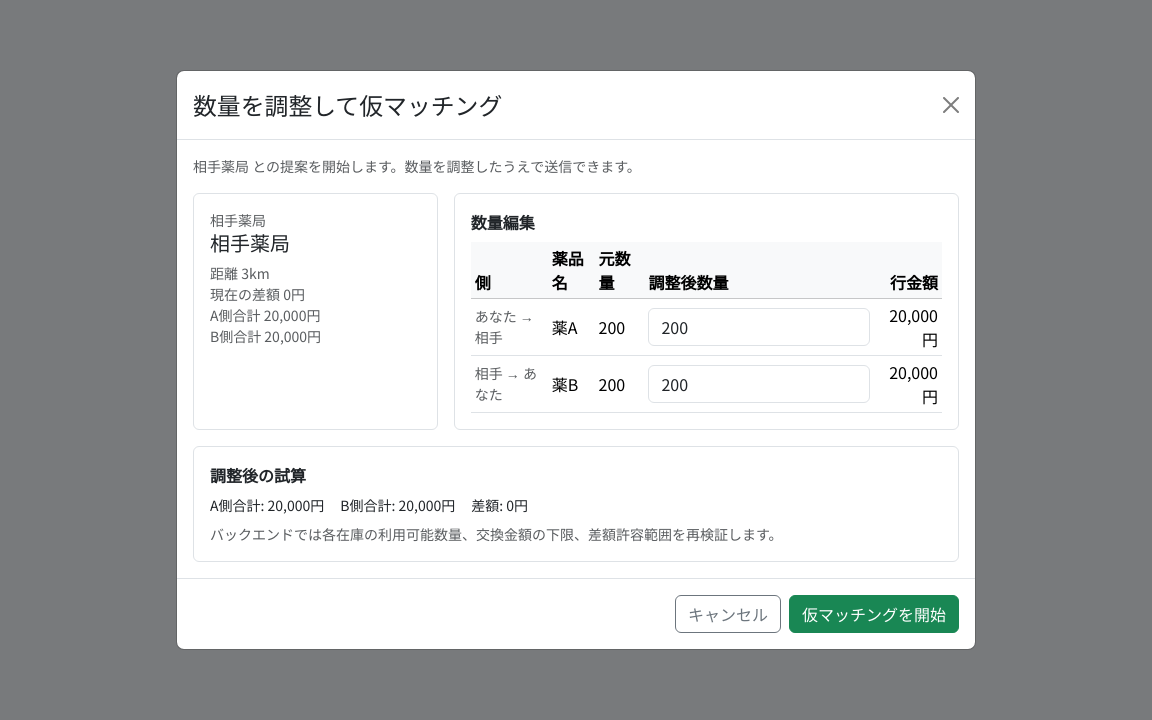
it: ProposalQuantityAdjustModal › disables confirmation when quantity exceeds the original stock amount
Clear the number field in the row of "あなた → 相手". click: (759, 327)
box: [648,308,870,346]
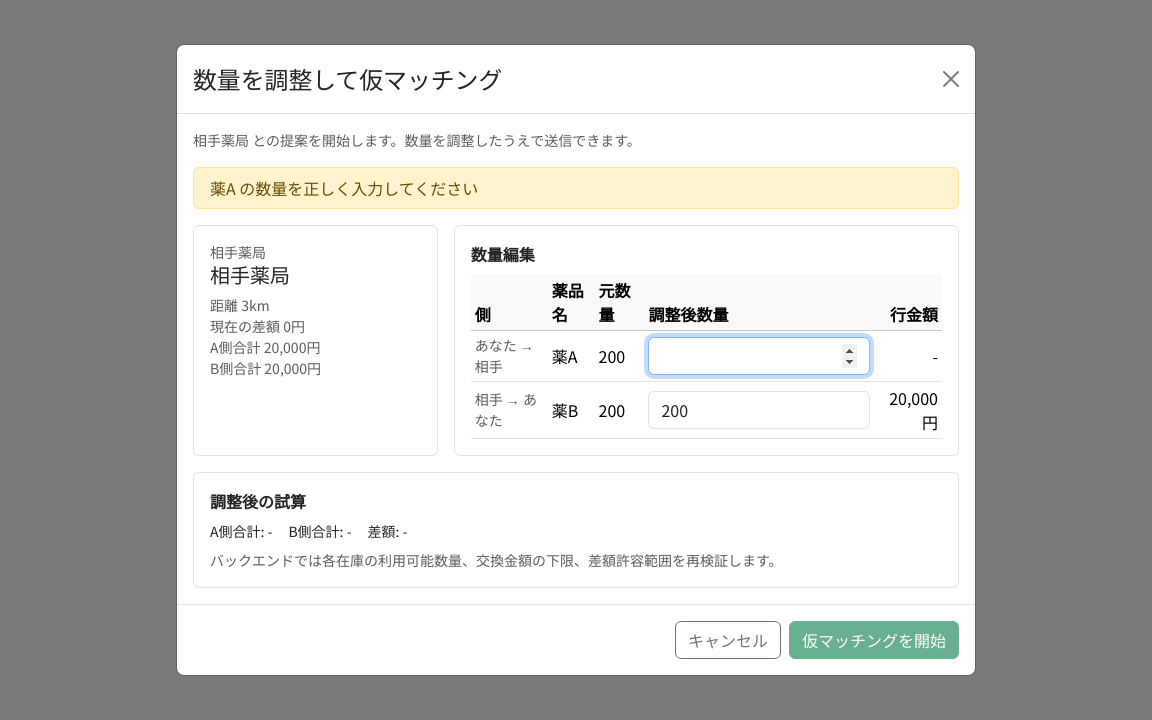
Type "250" into the number field in the row of "あなた → 相手". click: (759, 356)
box: [648,337,870,375]
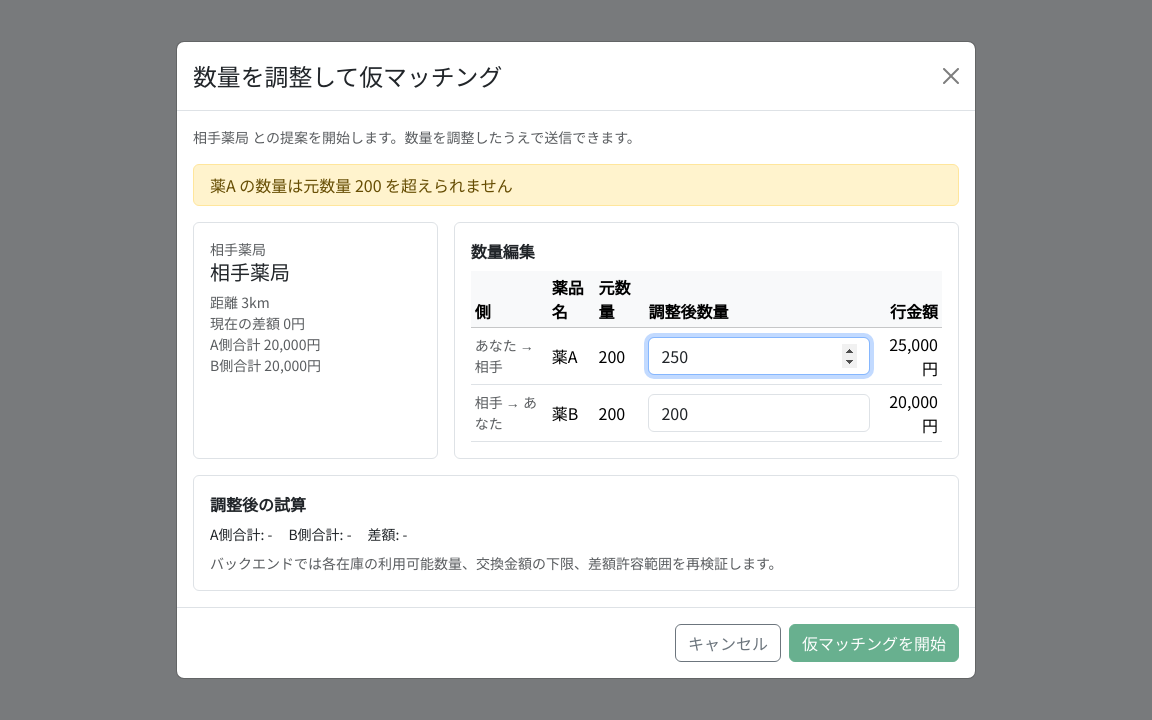
Expected: the button "仮マッチングを開始" is disabled, [789,624,959,662]
Expected: the text "薬A の数量は元数量 200 を超えられません" is shown, [193,164,959,206]
